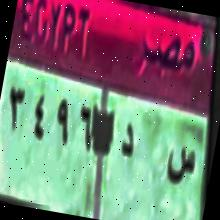3: (2, 77, 30, 139)
4: (24, 85, 52, 150)
6: (70, 102, 100, 156)
9: (49, 96, 75, 155)
daal: (115, 118, 140, 168)
seen: (162, 140, 201, 192)
